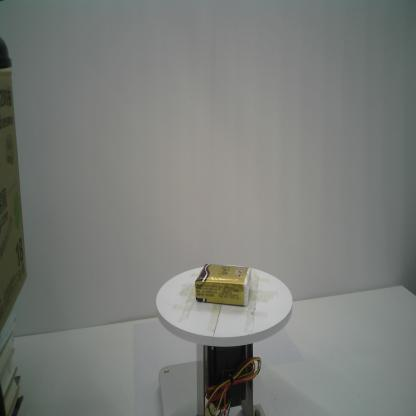Tissue: (194, 263, 252, 307)
